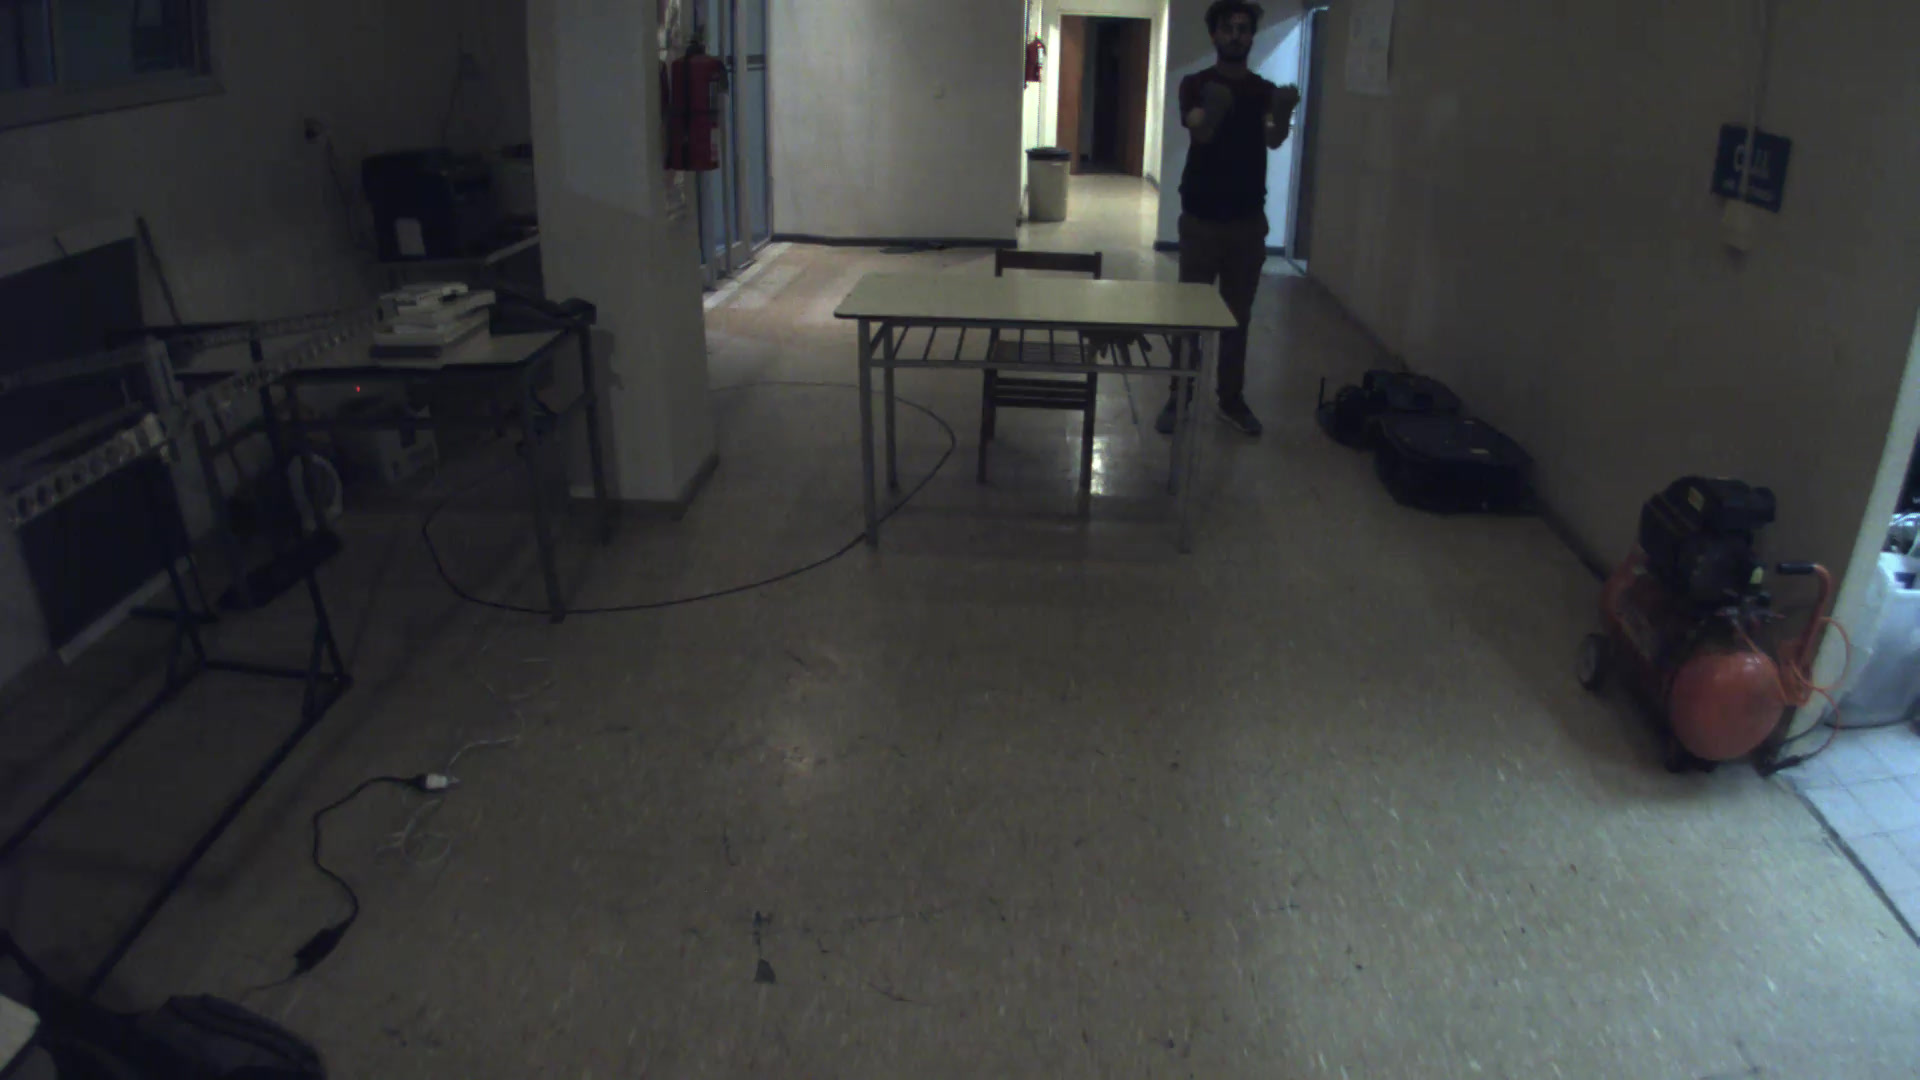hand: (1259, 73, 1309, 132), (1199, 76, 1245, 129)
